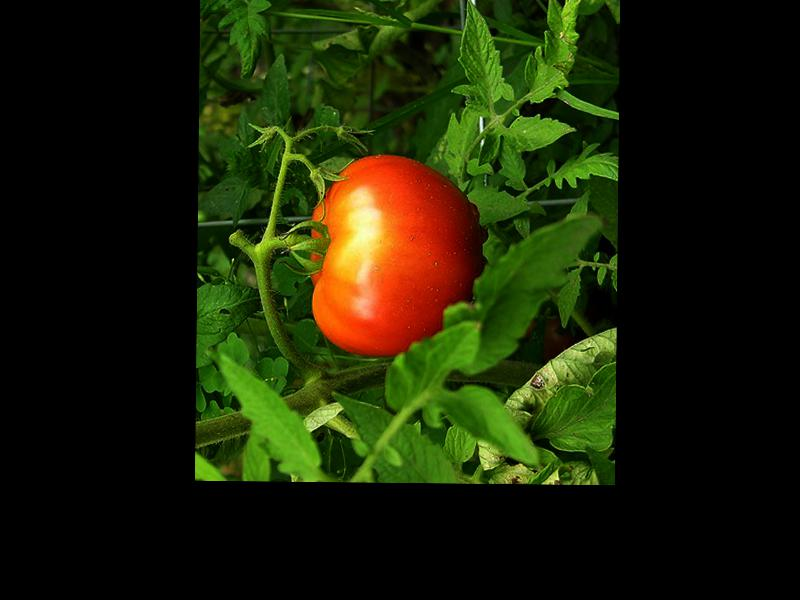Tomato: (308, 155, 480, 356)
